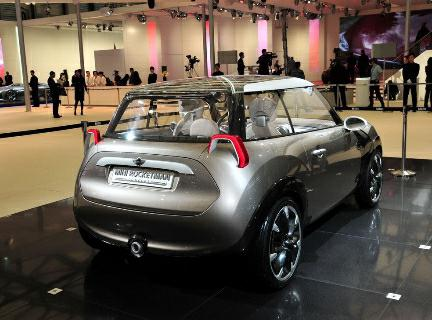MINI-ROCKETMAN: (67, 74, 386, 270)
